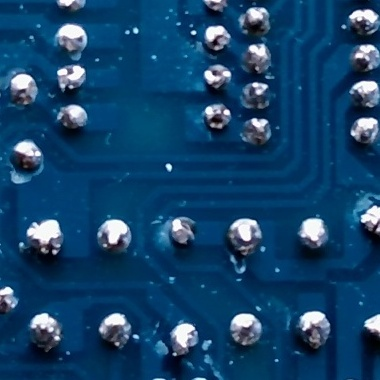?: (24, 219, 63, 258), (167, 217, 198, 249), (350, 7, 380, 39), (240, 8, 270, 38), (242, 117, 273, 145), (54, 66, 88, 91), (243, 81, 272, 108), (202, 25, 232, 51), (352, 117, 380, 143), (0, 286, 20, 313)
drag: (297, 309, 332, 348)
little: (201, 60, 232, 88), (351, 44, 380, 72), (205, 102, 233, 130), (202, 0, 227, 12)
norm: (28, 311, 62, 350), (97, 219, 133, 253), (100, 311, 132, 347), (231, 312, 263, 348), (228, 218, 261, 252), (240, 45, 274, 75), (54, 25, 90, 53), (11, 140, 44, 170), (299, 217, 329, 250), (57, 103, 92, 131), (9, 71, 37, 105), (352, 79, 380, 110), (141, 376, 174, 380), (186, 378, 213, 380), (336, 379, 364, 380), (375, 376, 380, 380)
tip: (171, 321, 200, 358), (359, 202, 380, 236), (58, 0, 89, 12), (348, 0, 380, 2)
